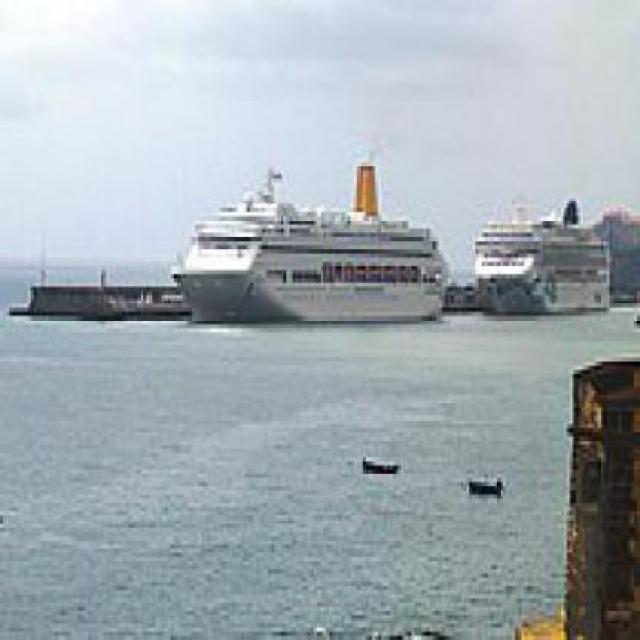cruise: (166, 167, 467, 346), (461, 196, 629, 342)
